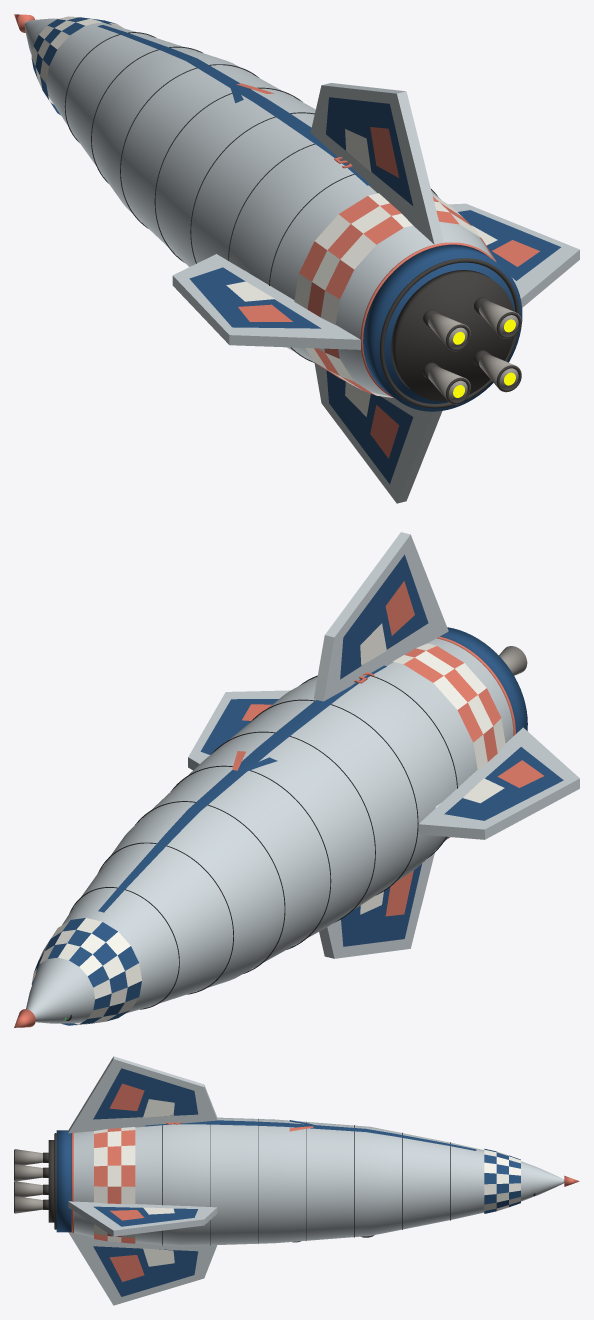
The model's file is Ship_LunarCourier_826239.glb.
The picture shows the model from 3 angles, top to bottom: view 1: azimuth 30°, elevation 25°; view 2: azimuth 150°, elevation 25°; view 3: azimuth 270°, elevation 25°; orthographic projection. The views are drawn at different scales.
Parts seen in each view (by area): view 1: Fuselage_TaperedPaintedBody, EngineDeck_AftDarkMountPlate, AftCollar_PrimaryEngineBand, TailFin_Dorsal_broad_CreamAerofoil, TailFin_Left_broad_CreamAerofoil, TailFin_Ventral_broad_CreamAerofoil, TailFinPanel_Dorsal_PrimarySide_A, TailFinPanel_Ventral_PrimarySide_B, TailFinPanel_Left_PrimarySide_B, TailFin_Right_broad_CreamAerofoil, PaintStripe_DorsalPrimarySpine, TailFinPanel_Right_PrimarySide_A (+11 smaller); view 2: Fuselage_TaperedPaintedBody, TailFin_Dorsal_broad_CreamAerofoil, TailFin_Left_broad_CreamAerofoil, NoseCone_PaintedNeedleSection, TailFinPanel_Dorsal_PrimarySide_A, PaintStripe_DorsalPrimarySpine, TailFinPanel_Left_PrimarySide_B, TailFinPanel_Ventral_PrimarySide_B, TailFin_Ventral_broad_CreamAerofoil, AftCollar_PrimaryEngineBand, TailFinPanel_Right_PrimarySide_A, TailFin_Right_broad_CreamAerofoil (+4 smaller); view 3: Fuselage_TaperedPaintedBody, TailFin_Dorsal_broad_CreamAerofoil, TailFin_Ventral_broad_CreamAerofoil, TailFinPanel_Dorsal_PrimarySide_B, TailFinPanel_Ventral_PrimarySide_A, TailFin_Right_broad_CreamAerofoil, AftCollar_PrimaryEngineBand, PaintStripe_DorsalPrimarySpine, NoseCone_PaintedNeedleSection, TailFinPanel_Right_PrimarySide_A, TailFinCheckerPatch_Dorsal_01_B, TailFinCheckerPatch_Ventral_01_A (+7 smaller).
Part boxes in pixels (<box>): Fuselage_TaperedPaintedBody: <box>46,22,491,396</box>; EngineDeck_AftDarkMountPlate: <box>391,270,513,401</box>; AftCollar_PrimaryEngineBand: <box>363,244,522,411</box>; TailFin_Dorsal_broad_CreamAerofoil: <box>310,83,443,244</box>; TailFin_Left_broad_CreamAerofoil: <box>172,254,360,349</box>; TailFin_Ventral_broad_CreamAerofoil: <box>314,363,442,503</box>; TailFinPanel_Dorsal_PrimarySide_A: <box>326,97,413,205</box>; TailFinPanel_Ventral_PrimarySide_B: <box>326,370,413,483</box>; TailFinPanel_Left_PrimarySide_B: <box>189,267,321,328</box>; TailFin_Right_broad_CreamAerofoil: <box>448,203,579,307</box>; PaintStripe_DorsalPrimarySpine: <box>97,25,370,185</box>; TailFinPanel_Right_PrimarySide_A: <box>458,210,560,280</box>; Fuselage_TaperedPaintedBody: <box>62,638,513,1013</box>; TailFin_Dorsal_broad_CreamAerofoil: <box>313,532,448,701</box>; TailFin_Left_broad_CreamAerofoil: <box>418,727,579,839</box>; NoseCone_PaintedNeedleSection: <box>26,957,94,1023</box>; TailFinPanel_Dorsal_PrimarySide_A: <box>340,554,428,679</box>; PaintStripe_DorsalPrimarySpine: <box>98,665,386,912</box>; TailFinPanel_Left_PrimarySide_B: <box>444,747,563,820</box>; TailFinPanel_Ventral_PrimarySide_B: <box>341,864,421,946</box>; TailFin_Ventral_broad_CreamAerofoil: <box>319,850,435,958</box>; AftCollar_PrimaryEngineBand: <box>440,627,527,733</box>; TailFinPanel_Right_PrimarySide_A: <box>200,699,278,754</box>; TailFin_Right_broad_CreamAerofoil: <box>188,690,290,770</box>; Fuselage_TaperedPaintedBody: <box>74,1117,484,1246</box>; TailFin_Dorsal_broad_CreamAerofoil: <box>68,1056,217,1133</box>; TailFin_Ventral_broad_CreamAerofoil: <box>68,1232,217,1305</box>; TailFinPanel_Dorsal_PrimarySide_B: <box>93,1068,198,1119</box>; TailFinPanel_Ventral_PrimarySide_A: <box>93,1246,198,1296</box>; TailFin_Right_broad_CreamAerofoil: <box>68,1201,217,1236</box>; AftCollar_PrimaryEngineBand: <box>56,1130,71,1232</box>; PaintStripe_DorsalPrimarySpine: <box>145,1120,476,1150</box>; NoseCone_PaintedNeedleSection: <box>521,1161,564,1201</box>; TailFinPanel_Right_PrimarySide_A: <box>93,1206,197,1226</box>; TailFinCheckerPatch_Dorsal_01_B: <box>109,1083,144,1110</box>; TailFinCheckerPatch_Ventral_01_A: <box>109,1255,144,1281</box>.
Bounding box in the file's own units: 3.81 × 4.26 × 8.86.
